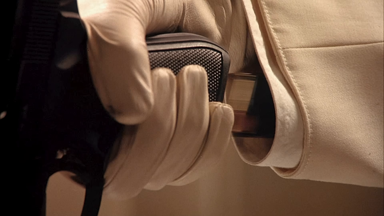firearm: (1, 1, 230, 214)
